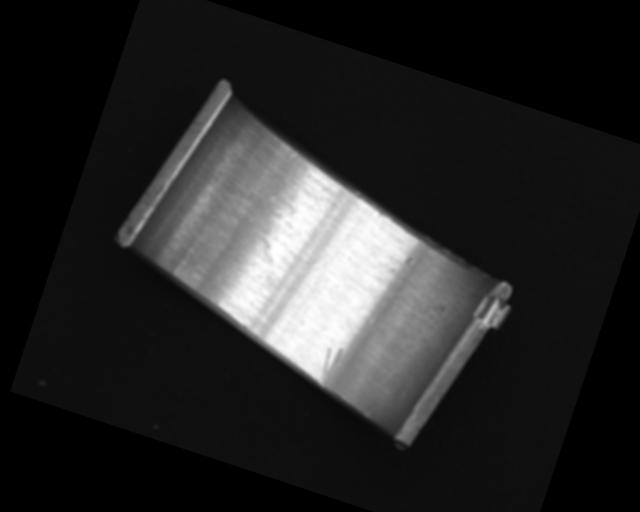bruise: (403, 254, 416, 267)
nick: (313, 343, 345, 390), (363, 405, 375, 420)
